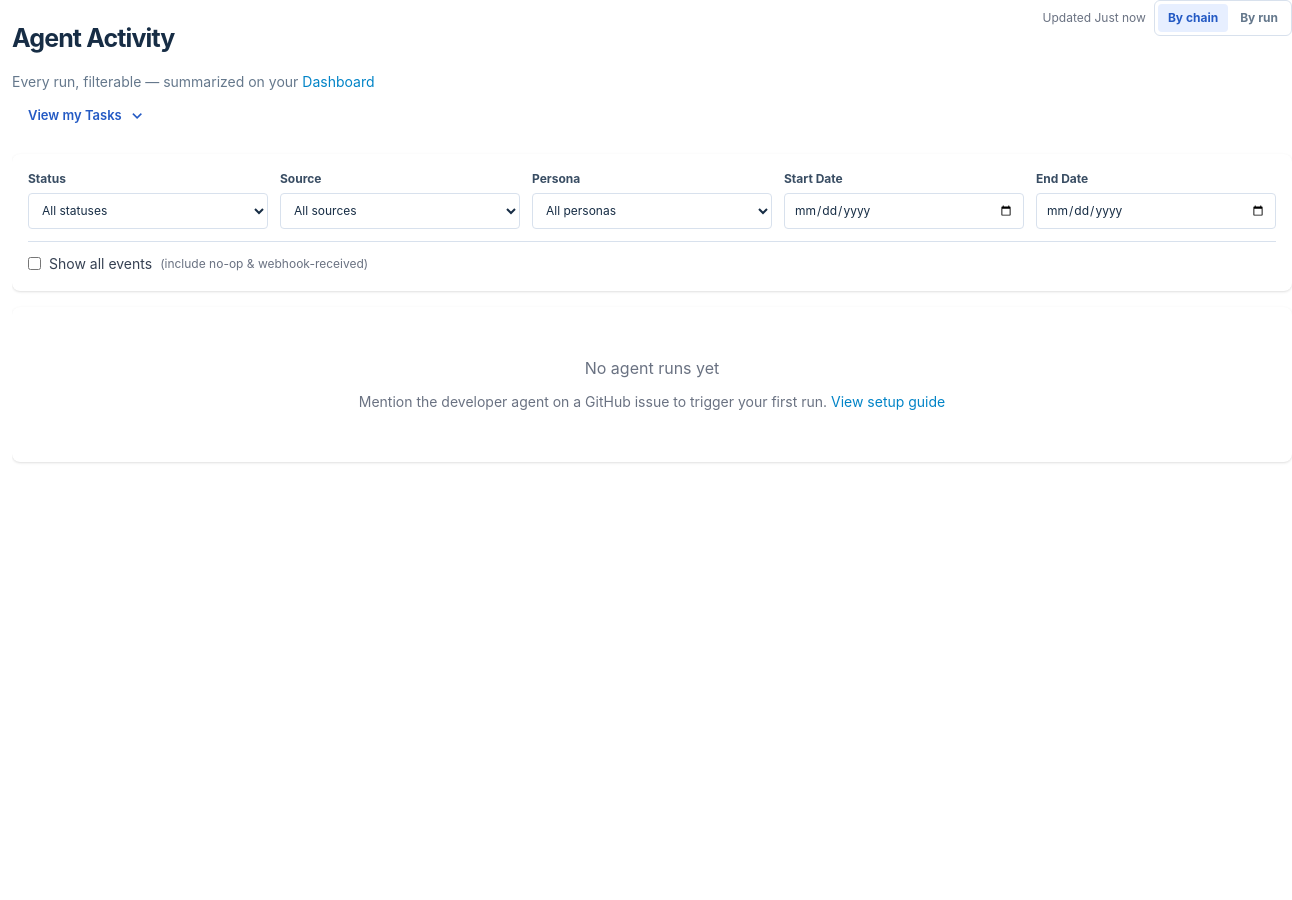
AgentActivity Page › renders correct glyph/label for each of the 6 statuses
What coordinates should you click on to do the following:
click the tab "By run"
I would click on:
 (1259, 18)
Its box is [1230,4,1288,32].
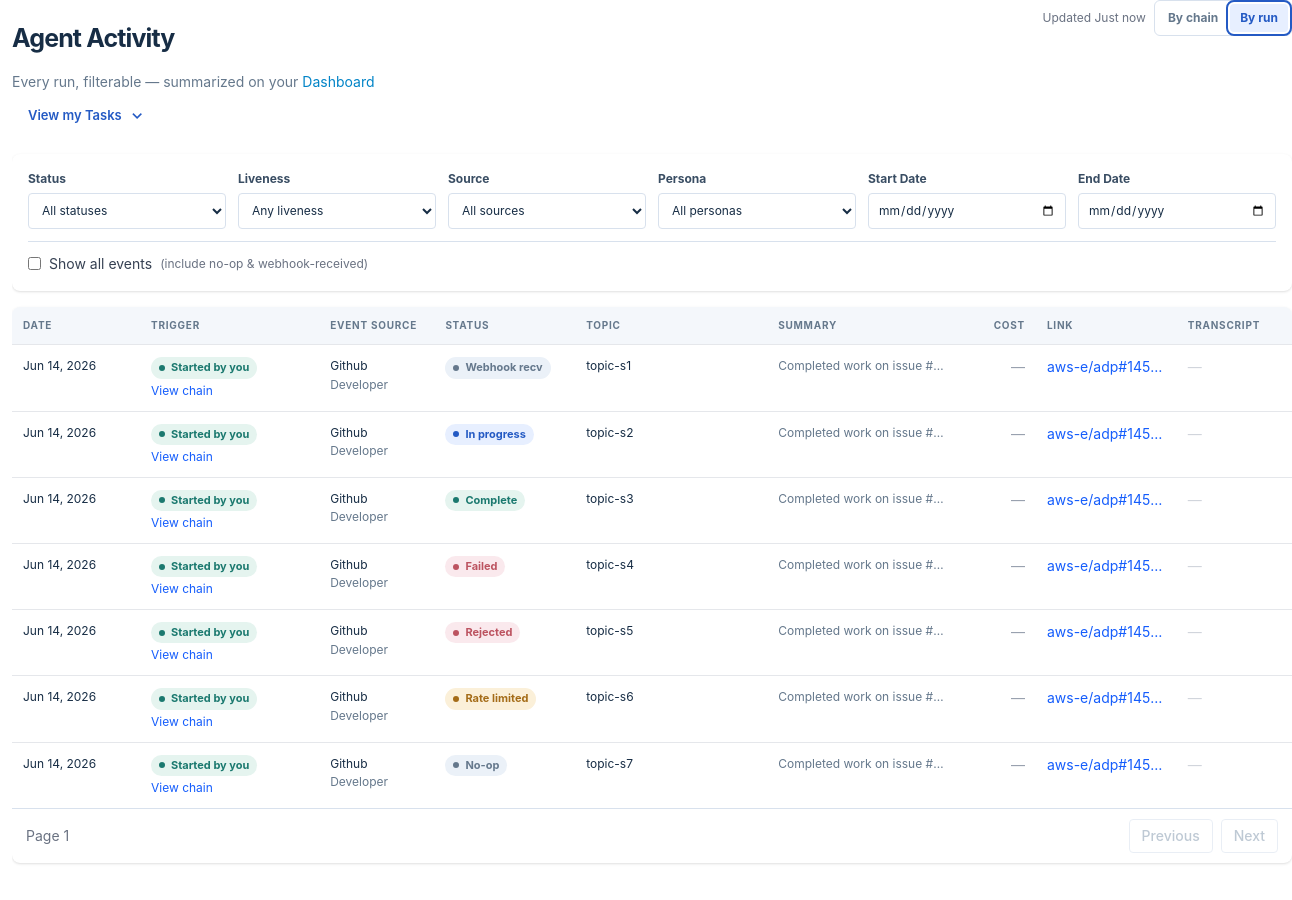
Now the text "Webhook recv" is shown, box [465,362,543,375]
Now the text "In progress" is shown, box [465,428,526,441]
Now the text "Complete" is shown, box [465,494,517,507]
